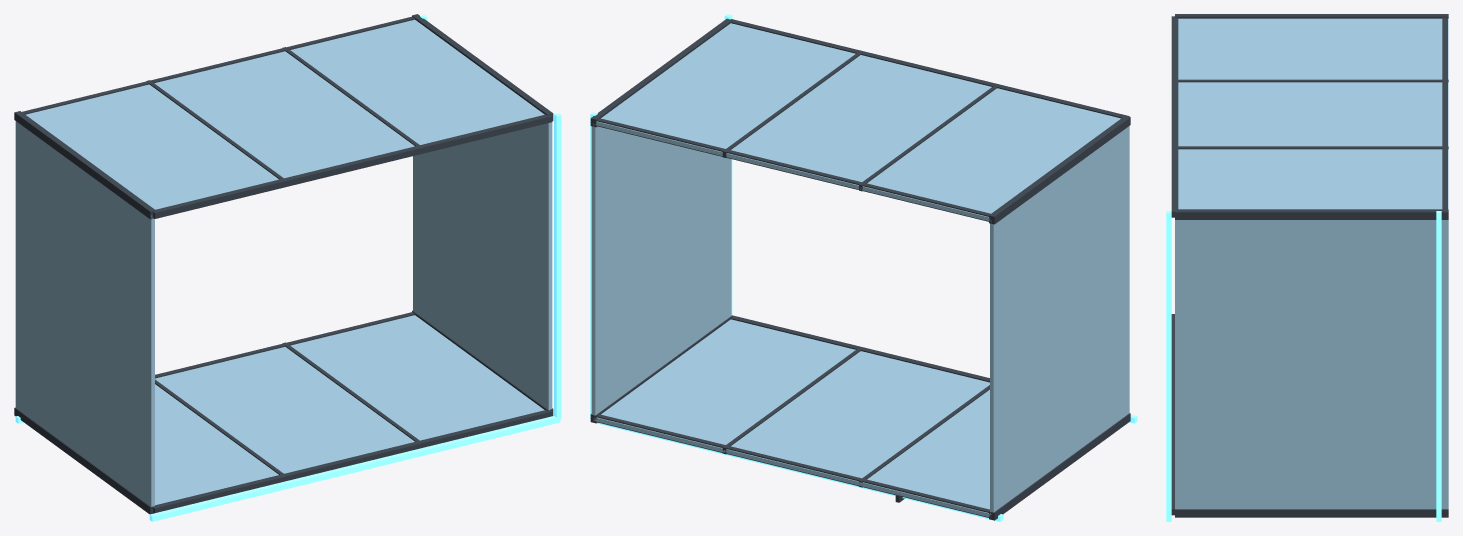
The model's file is ARCH_GLASS_MEETING_ROOM_HERO_001.glb.
3 views of the same model, side by side, from view 1: azimuth 30°, elevation 25°; view 2: azimuth 150°, elevation 25°; view 3: azimuth 270°, elevation 25° (orthographic).
Parts seen in each view (by area): view 1: glass_front_back_009, glass_front_back_006, glass_side_000, glass_side_003, top_frame_010, neon_front_top_018, top_frame_007, neon_side_top_019, corner_frame_002, bottom_frame_011, corner_frame_001, bottom_frame_008 (+5 smaller); view 2: glass_front_back_009, glass_front_back_006, glass_side_000, glass_side_003, bottom_frame_008, bottom_frame_011, top_frame_010, corner_frame_002, corner_frame_001, top_frame_007, corner_frame_005, mullion_013 (+5 smaller); view 3: glass_side_003, glass_front_back_009, corner_frame_005, corner_frame_004, neon_side_floor_017, neon_side_top_019, top_frame_010, corner_frame_002, bottom_frame_011, mullion_015, mullion_013, top_frame_007.
Boxes of the visible parts, <box> form: glass_front_back_009: <box>26,19,544,209</box>; glass_front_back_006: <box>155,315,544,505</box>; glass_side_000: <box>15,121,154,506</box>; glass_side_003: <box>413,122,552,410</box>; top_frame_010: <box>153,114,552,218</box>; neon_front_top_018: <box>149,416,560,521</box>; top_frame_007: <box>153,410,552,513</box>; neon_side_top_019: <box>554,113,561,420</box>; corner_frame_002: <box>14,111,155,219</box>; bottom_frame_011: <box>22,16,414,114</box>; corner_frame_001: <box>14,407,155,514</box>; bottom_frame_008: <box>155,312,414,378</box>; glass_front_back_009: <box>593,23,1120,221</box>; glass_front_back_006: <box>593,319,991,517</box>; glass_side_000: <box>990,126,1129,514</box>; glass_side_003: <box>591,126,731,418</box>; bottom_frame_008: <box>597,414,989,517</box>; bottom_frame_011: <box>597,118,990,221</box>; top_frame_010: <box>731,19,1129,118</box>; corner_frame_002: <box>989,116,1130,224</box>; corner_frame_001: <box>989,413,1130,520</box>; top_frame_007: <box>731,315,989,382</box>; corner_frame_005: <box>590,18,732,127</box>; mullion_013: <box>859,85,998,191</box>; glass_side_003: <box>1175,220,1448,509</box>; glass_front_back_009: <box>1178,18,1448,209</box>; corner_frame_005: <box>1175,209,1448,219</box>; corner_frame_004: <box>1175,509,1448,517</box>; neon_side_floor_017: <box>1436,211,1441,519</box>; neon_side_top_019: <box>1166,211,1171,519</box>; top_frame_010: <box>1171,16,1178,217</box>; corner_frame_002: <box>1175,14,1448,18</box>; bottom_frame_011: <box>1442,17,1447,209</box>; mullion_015: <box>1175,146,1448,149</box>; mullion_013: <box>1178,79,1448,82</box>; top_frame_007: <box>1171,314,1174,515</box>.
Bounding box in the file's own units: 3.91 × 2.84 × 2.32.
